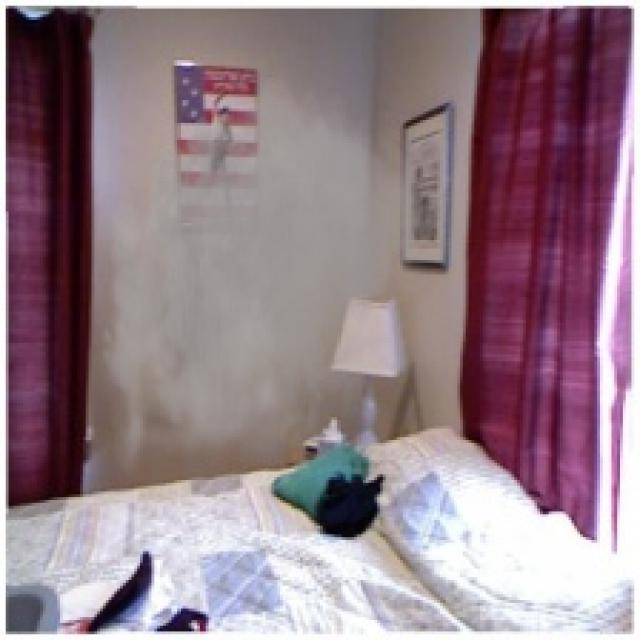smoke: (86, 66, 434, 488)
